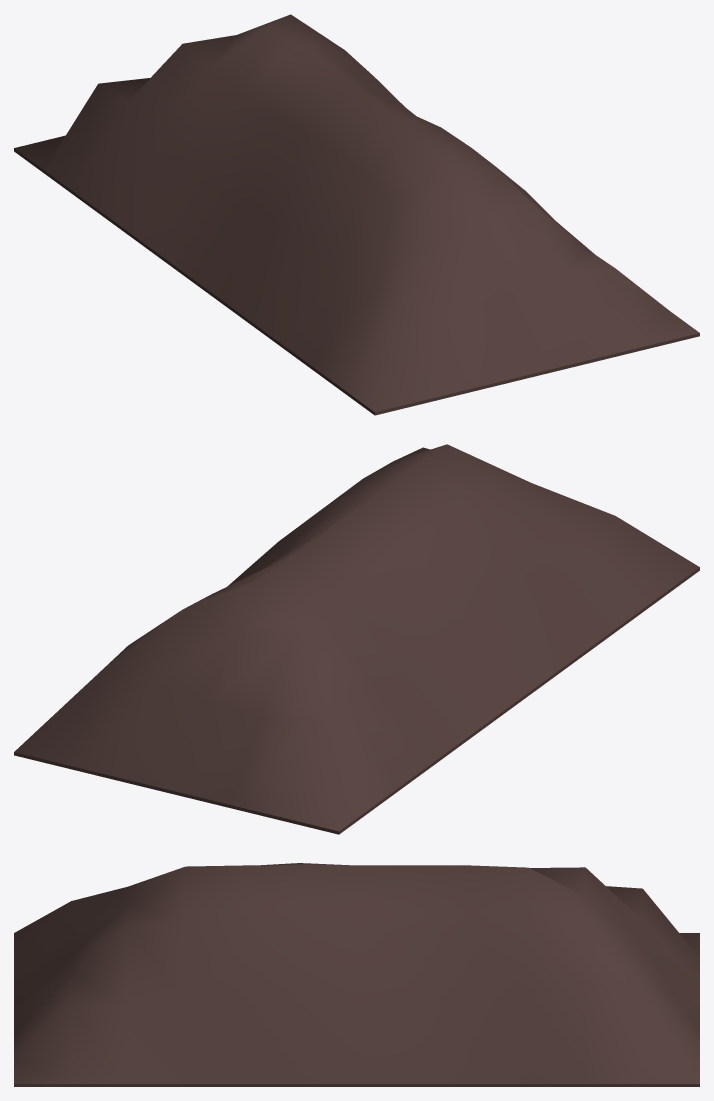
File: port_cargo1.fbx
The picture shows the model from 3 angles, top to bottom: view 1: azimuth 30°, elevation 25°; view 2: azimuth 150°, elevation 25°; view 3: azimuth 270°, elevation 25°; orthographic projection. The views are drawn at different scales.
Visible parts, largest first — view 1: a401_0_port_cargo1; view 2: a401_0_port_cargo1; view 3: a401_0_port_cargo1.
Part boxes in pixels (x1,y1,x2,y2): a401_0_port_cargo1: (14,14,699,415); a401_0_port_cargo1: (14,444,699,834); a401_0_port_cargo1: (14,863,699,1086).
Size of the model in its own units: 5.2 by 2.35 by 10.
